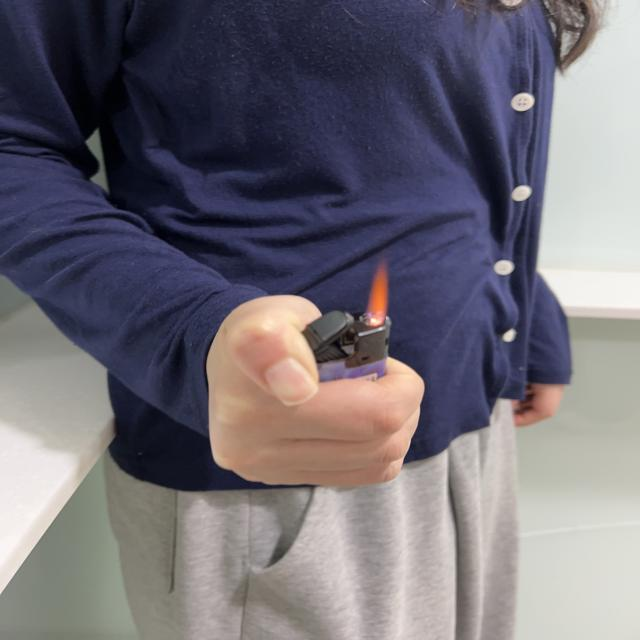fire: (363, 257, 388, 328)
